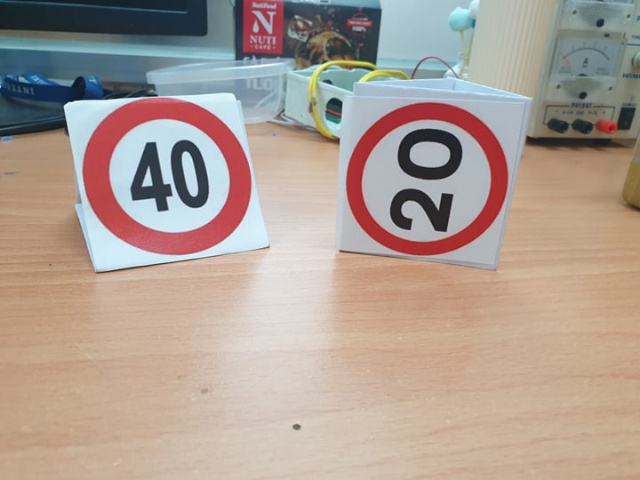Limit 20: (346, 102, 509, 260)
Limit 40: (87, 98, 254, 258)
